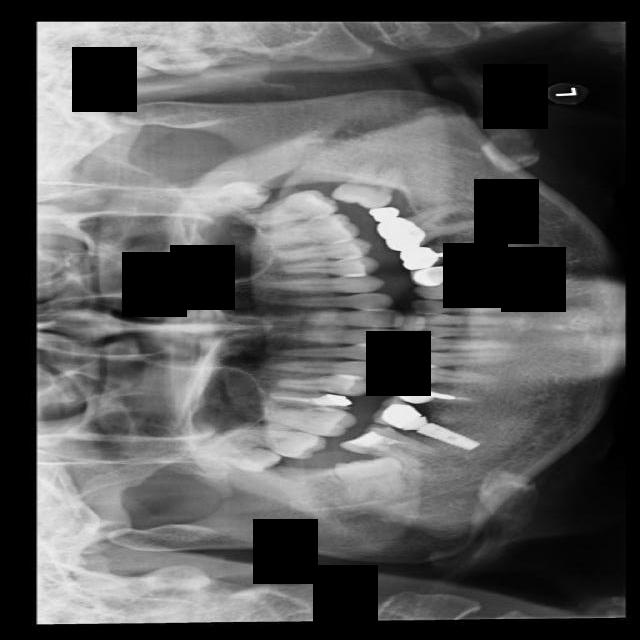3M ESPE Implant: (189, 437, 283, 475)
52: (359, 195, 429, 261), (339, 413, 403, 469), (370, 393, 423, 432), (389, 378, 436, 406), (409, 264, 459, 287), (309, 390, 353, 414), (399, 244, 439, 270), (400, 360, 438, 385)
73: (423, 233, 486, 267), (426, 385, 486, 406), (267, 385, 315, 407), (593, 40, 603, 44)
BioHorizons Implant: (224, 185, 340, 230)
BioLife Implant: (179, 172, 275, 225)
Biomet 3i Implant: (330, 149, 407, 219)
Caries: (222, 425, 328, 460)
Implant: (339, 415, 446, 473)
Keystone Dental Implant: (332, 452, 408, 506)
